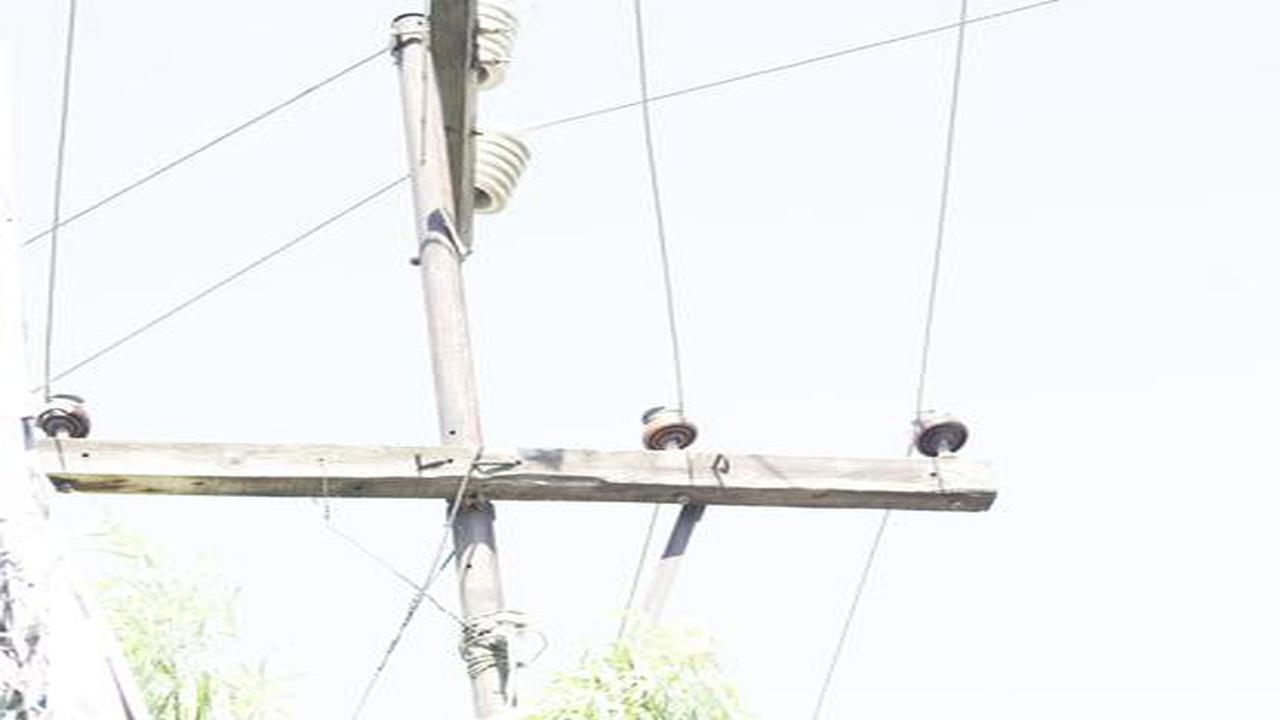defect_pin: (33, 385, 96, 441)
insulator_pin: (638, 401, 706, 453), (906, 407, 971, 460)
